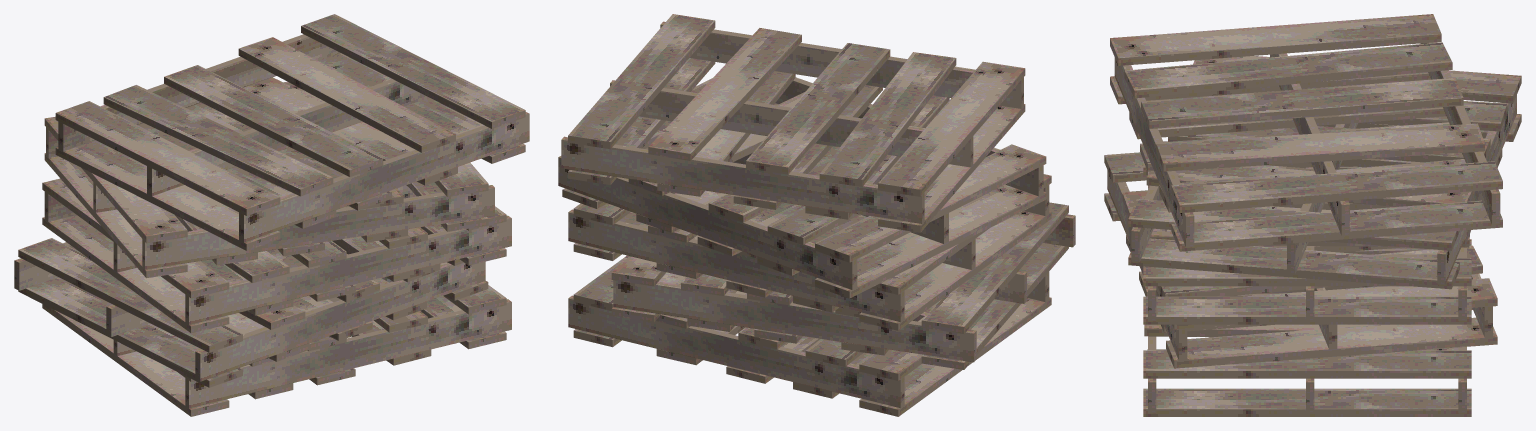
File: palet_stack.glb
3 renders of one model, left to right at view 1: azimuth 30°, elevation 25°; view 2: azimuth 150°, elevation 25°; view 3: azimuth 270°, elevation 25°, orthographic. The views are drawn at different scales.
Visible parts, largest first — view 1: Palet_stack; view 2: Palet_stack; view 3: Palet_stack.
Part boxes in pixels (<box>): Palet_stack: <box>14,14,529,416</box>; Palet_stack: <box>558,14,1075,416</box>; Palet_stack: <box>1104,14,1521,416</box>.
Size of the model in its own units: 2.21 by 1.08 by 1.77.
1 material, 1 textured.
